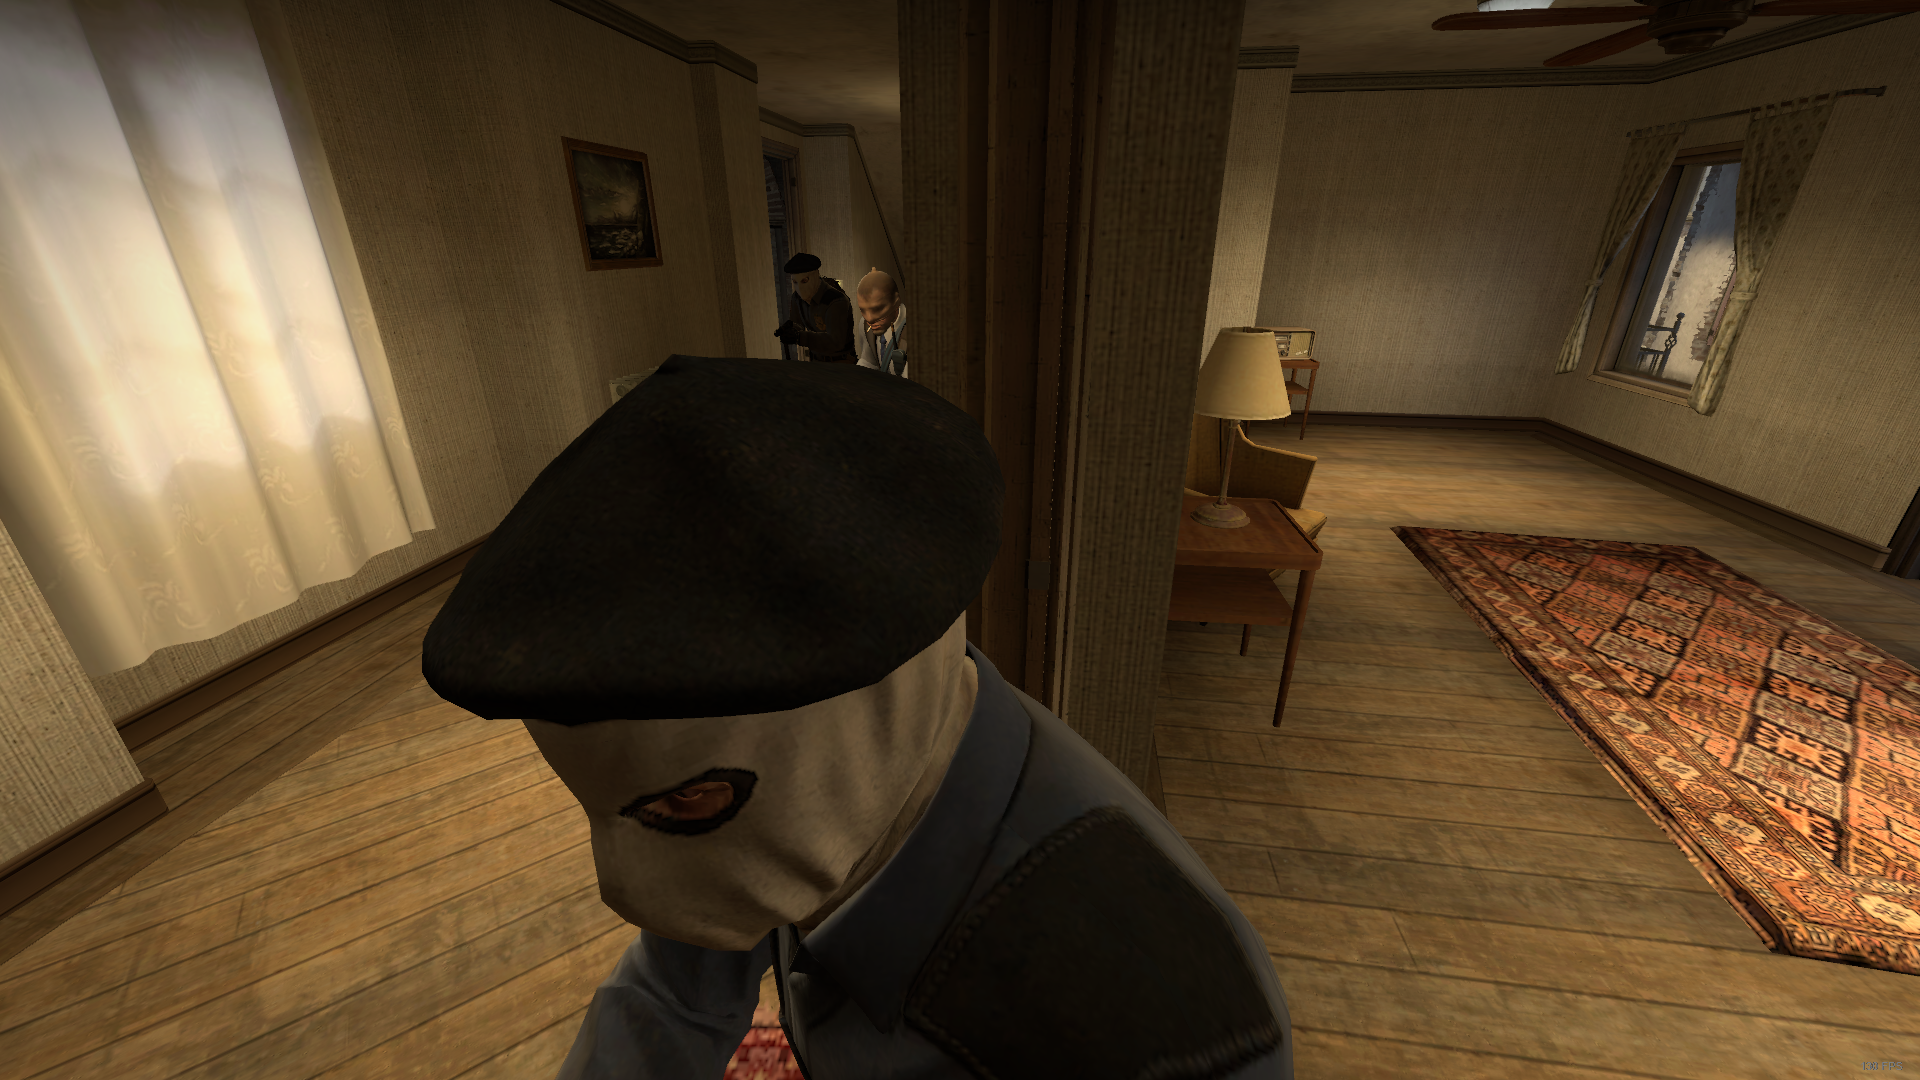t: (440, 349, 1309, 1080), (770, 257, 853, 360)
